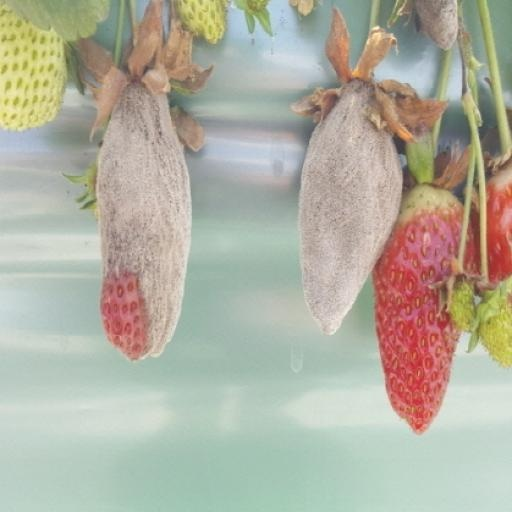Gray Mold: (319, 78, 417, 361), (109, 78, 213, 335), (52, 0, 98, 51)
